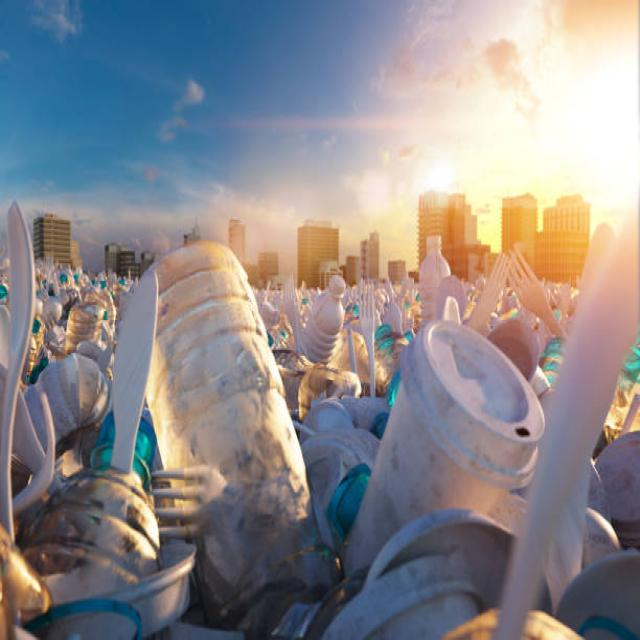plastic: (5, 250, 640, 634), (148, 257, 314, 604), (344, 335, 549, 580), (470, 254, 566, 377), (360, 271, 389, 399), (414, 232, 454, 311)
